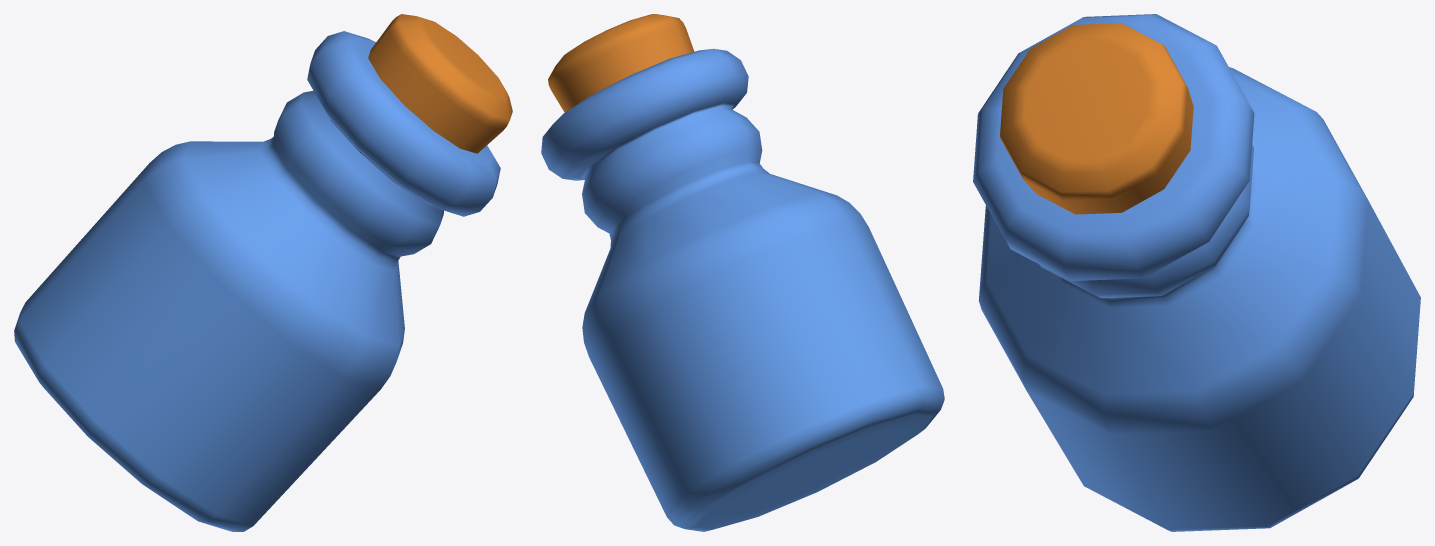
The picture shows the model from 3 angles, left to right: view 1: azimuth 30°, elevation 25°; view 2: azimuth 150°, elevation 25°; view 3: azimuth 270°, elevation 25°; orthographic projection. The views are drawn at different scales.
Visible parts, largest first — view 1: model_1.126; view 2: model_1.126; view 3: model_1.126.
Part boxes in pixels (box(x1,y1,x2,y2)): model_1.126: box(14, 14, 512, 531); model_1.126: box(541, 14, 944, 531); model_1.126: box(973, 14, 1420, 531).
Bounding box in the file's own units: 4.07 × 4.34 × 3.
